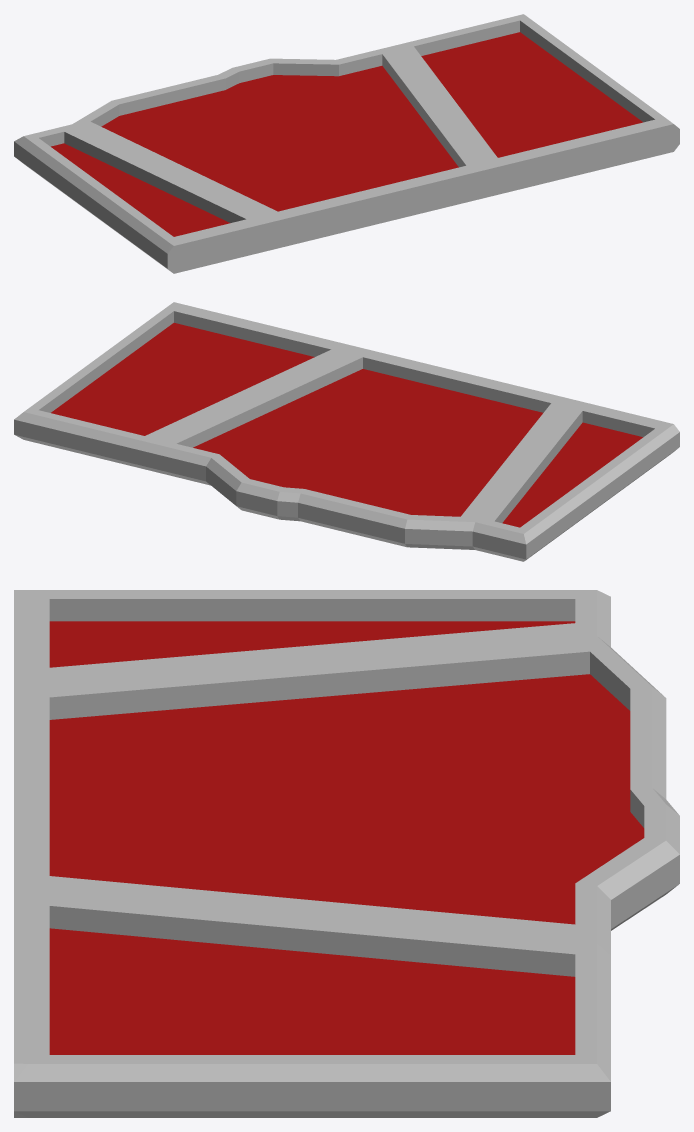
Rendered from Porta_AntaSX.fbx.
3 views of the same model, one above another, from view 1: azimuth 30°, elevation 25°; view 2: azimuth 150°, elevation 25°; view 3: azimuth 270°, elevation 25° (orthographic). The views are drawn at different scales.
Visible parts, largest first — view 1: Pannelli, Telaio; view 2: Pannelli, Telaio; view 3: Pannelli, Telaio.
Part boxes in pixels (x1=…): Pannelli: x1=51, y1=32, x2=642, y2=236; Telaio: x1=14, y1=14, x2=679, y2=273; Pannelli: x1=51, y1=323, x2=642, y2=527; Telaio: x1=14, y1=302, x2=679, y2=561; Pannelli: x1=49, y1=621, x2=644, y2=1054; Telaio: x1=14, y1=590, x2=679, y2=1117.
Size of the model in its own units: 250 by 13 by 145.
